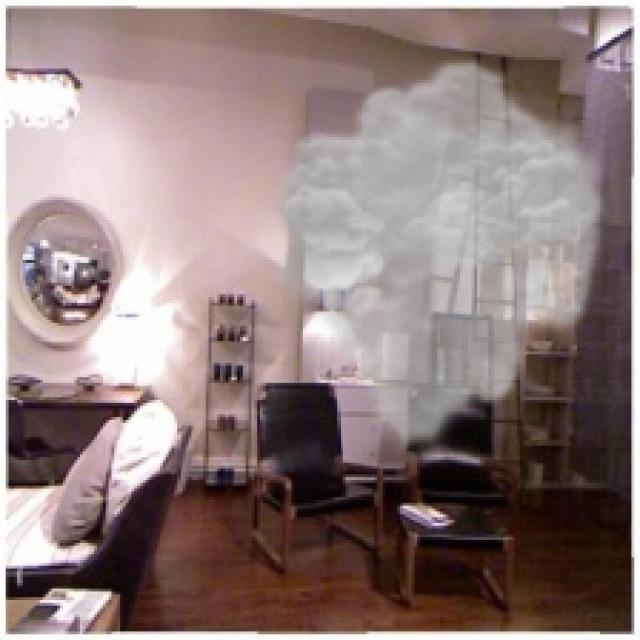Smoke: (266, 54, 614, 454)
